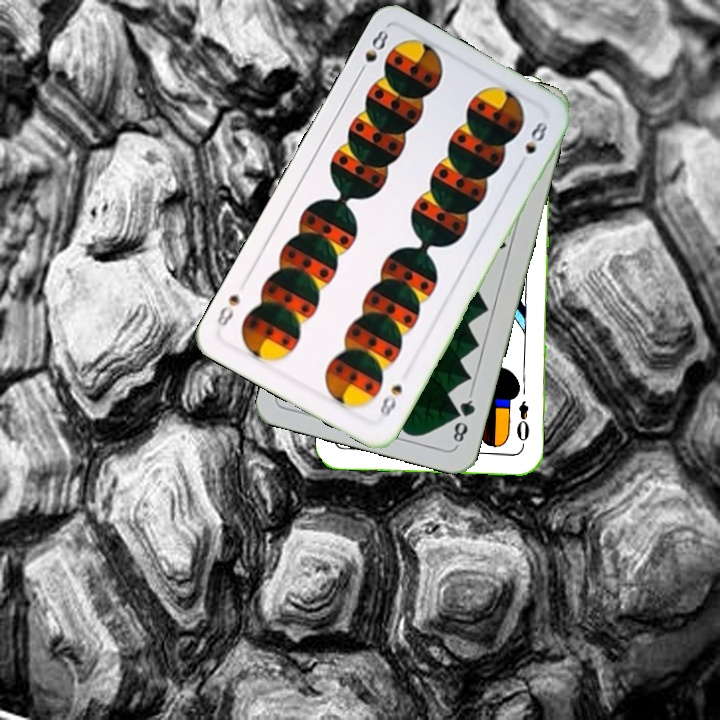EO: (513, 397, 532, 450)
G8: (449, 390, 478, 448)
S8: (353, 25, 391, 79), (375, 380, 405, 425)
